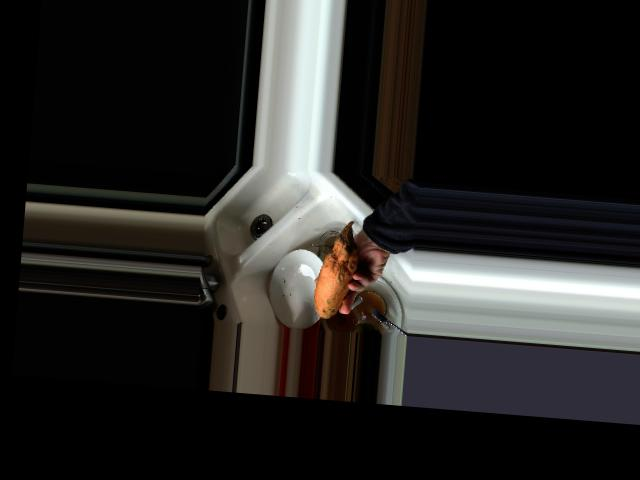sweet_potato: (310, 217, 361, 320)
